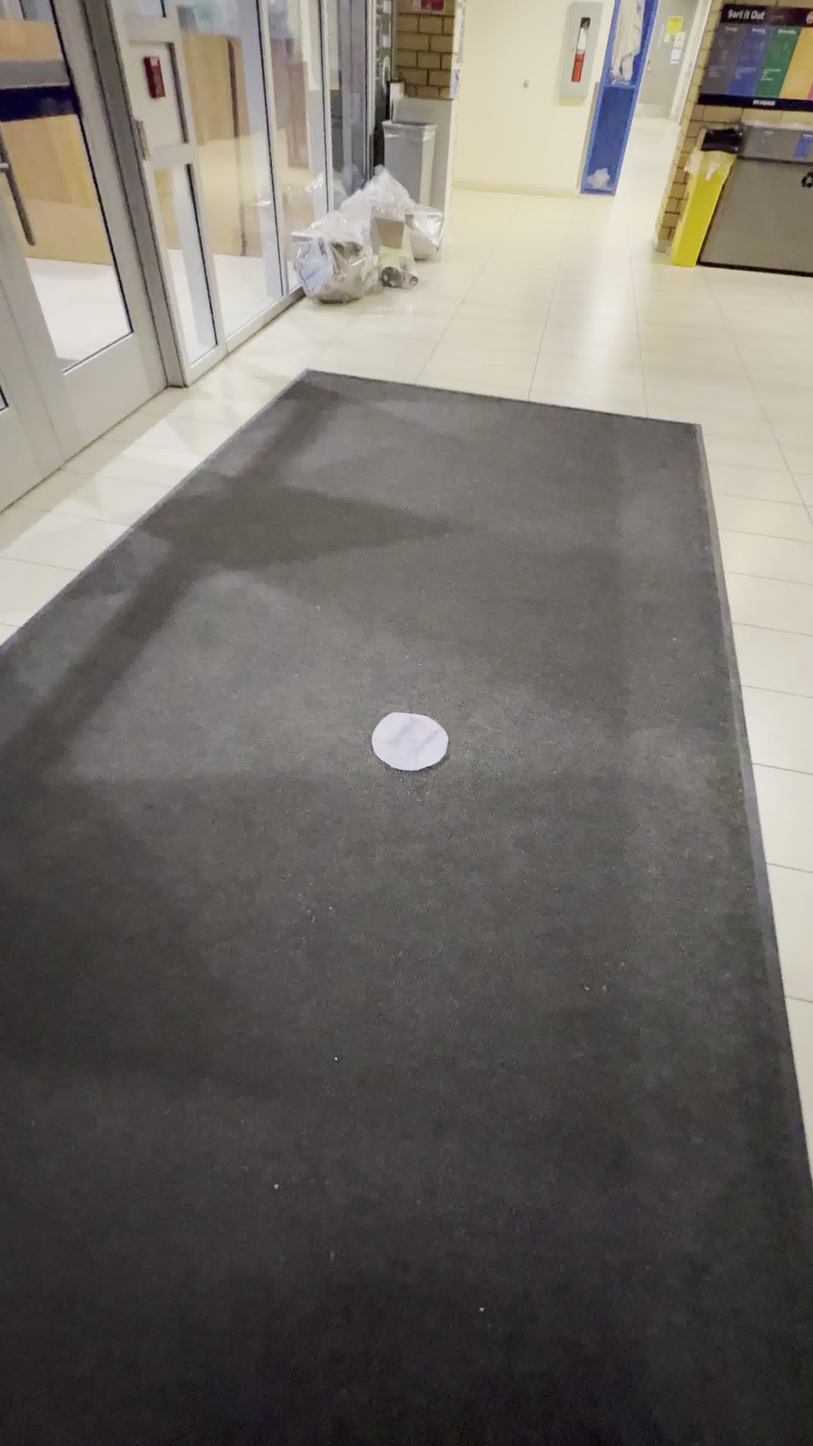Target: (371, 712, 448, 771)
